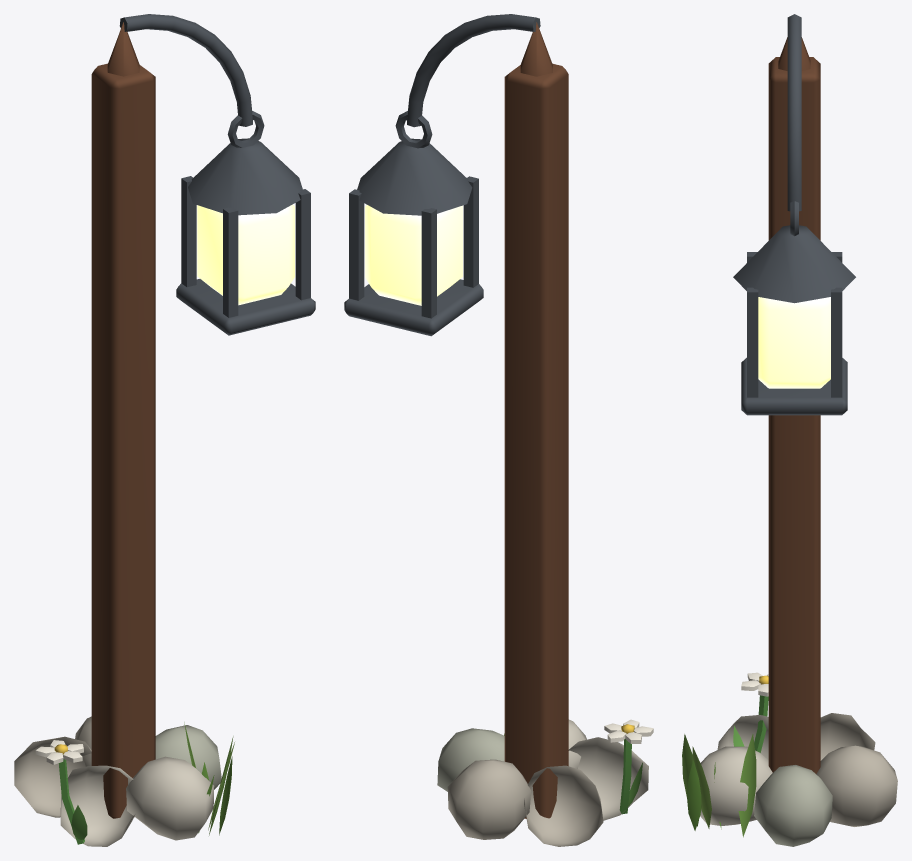
The model's file is lantern.glb.
The picture shows the model from 3 angles, left to right: view 1: azimuth 30°, elevation 25°; view 2: azimuth 150°, elevation 25°; view 3: azimuth 270°, elevation 25°; orthographic projection.
Visible parts, largest first — view 1: Lantern; view 2: Lantern; view 3: Lantern.
Part boxes in pixels (x1=…): Lantern: x1=14, y1=14, x2=315, y2=846; Lantern: x1=344, y1=14, x2=653, y2=846; Lantern: x1=682, y1=14, x2=897, y2=846.
Size of the model in its own units: 0.8432 by 2.38 by 0.5782.
